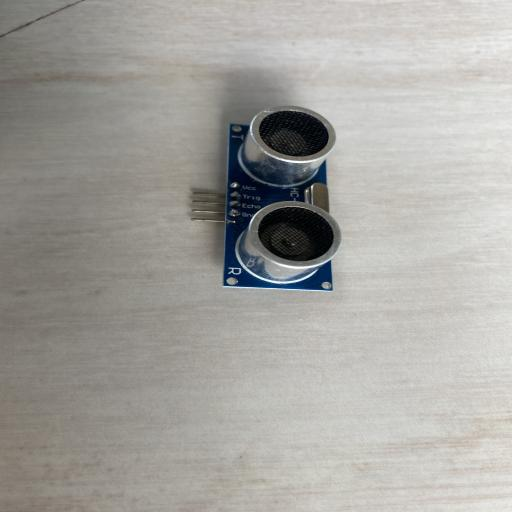Ultrasonic Sensor: (190, 105, 342, 292)
